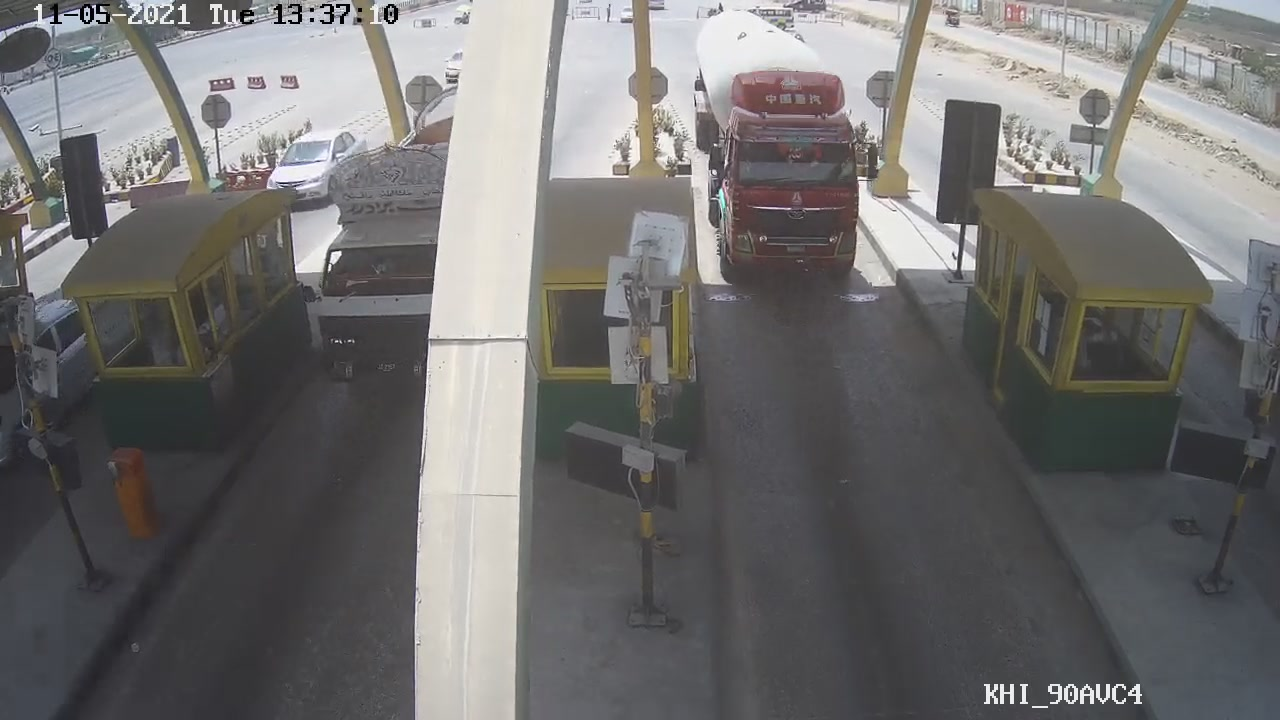F6: (693, 19, 882, 287)
